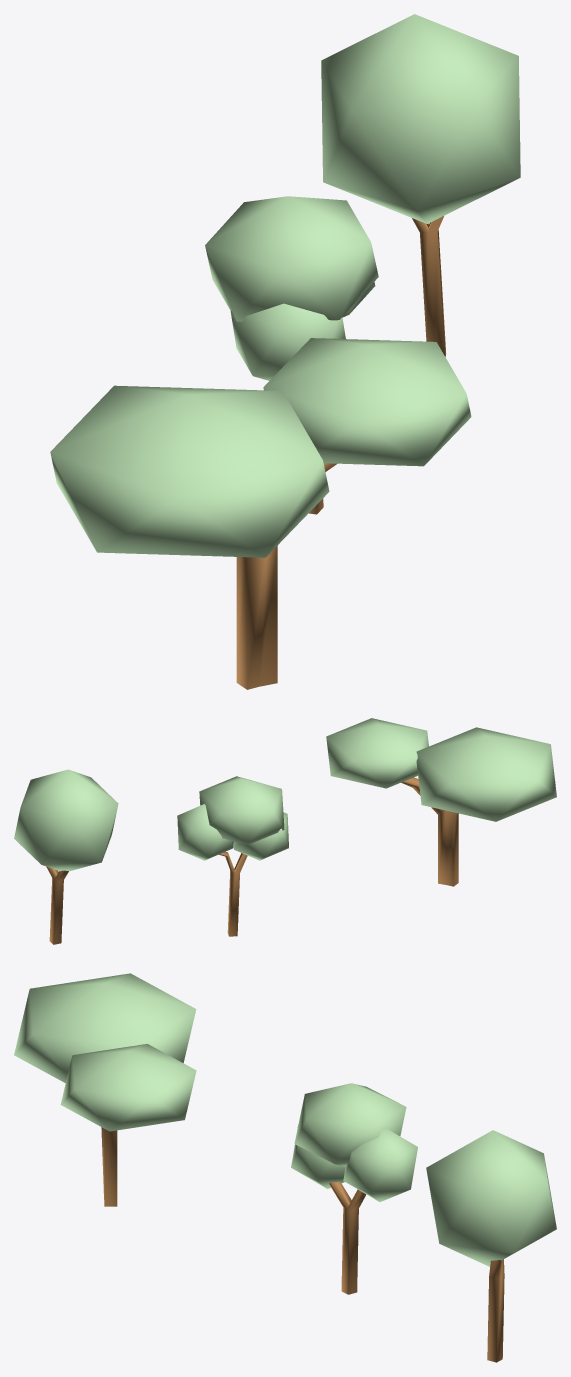
Rendered from 3 pohon.fbx.
The picture shows the model from 3 angles, top to bottom: view 1: azimuth 30°, elevation 25°; view 2: azimuth 150°, elevation 25°; view 3: azimuth 270°, elevation 25°; orthographic projection. The views are drawn at different scales.
Visible parts, largest first — view 1: Icosphere.002, Icosphere.001, Icosphere.004; view 2: Icosphere.002, Icosphere.001, Icosphere.004; view 3: Icosphere.002, Icosphere.001, Icosphere.004.
Boxes of the visible parts, <box> form: Icosphere.002: <box>50,338,471,689</box>; Icosphere.001: <box>321,14,520,356</box>; Icosphere.004: <box>205,196,378,514</box>; Icosphere.002: <box>326,718,556,886</box>; Icosphere.001: <box>14,769,118,944</box>; Icosphere.004: <box>177,776,288,936</box>; Icosphere.002: <box>14,973,196,1206</box>; Icosphere.001: <box>426,1130,556,1362</box>; Icosphere.004: <box>291,1083,417,1294</box>.
Size of the model in its own units: 4263 by 1982 by 4259.
